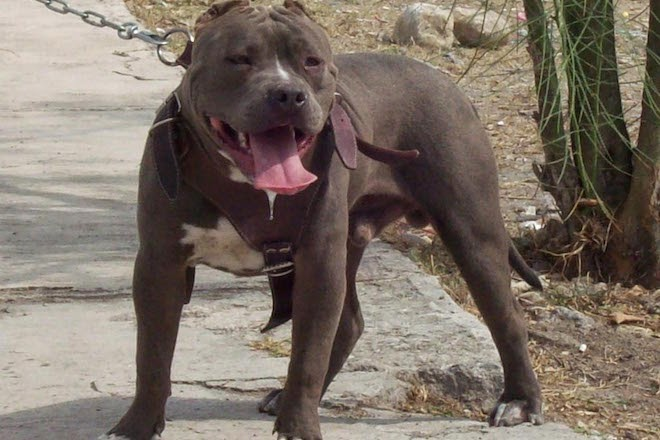Perro Pitbull: (117, 2, 543, 395)
